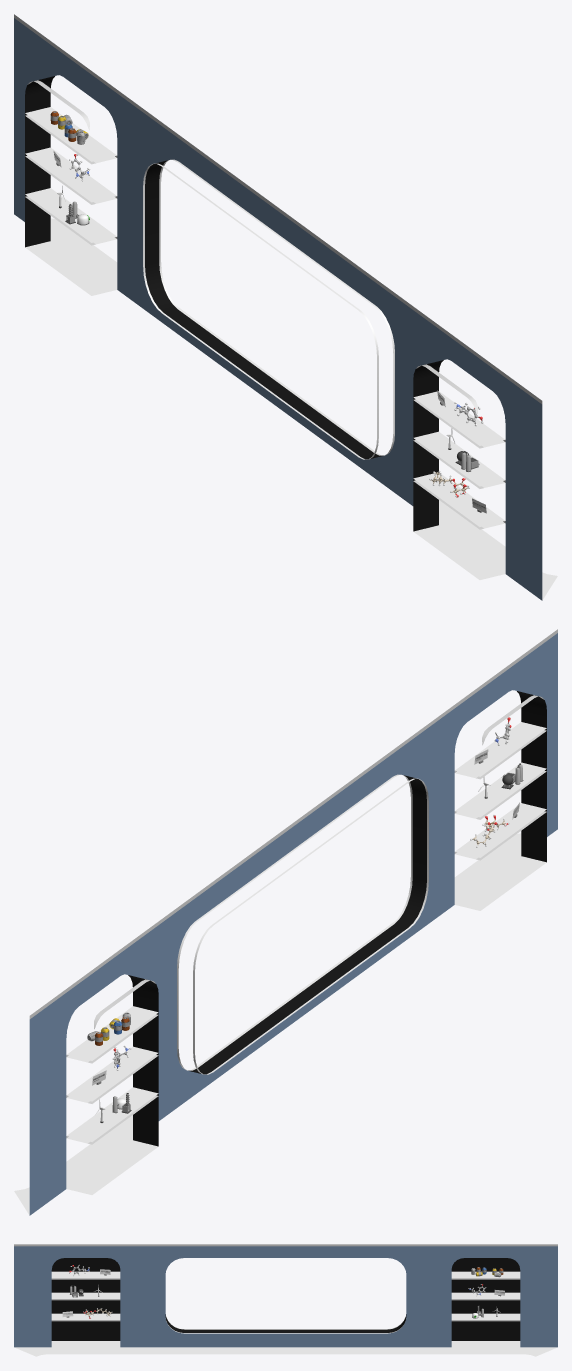
The model's file is Main.fbx.
3 renders of one model, top to bottom at view 1: azimuth 30°, elevation 25°; view 2: azimuth 150°, elevation 25°; view 3: azimuth 270°, elevation 25°, orthographic. The views are drawn at different scales.
Visible parts, largest first — view 1: Plane.001, Cube.008; view 2: Plane.001, Cube.008; view 3: Plane.001, Cube.008.
Part boxes in pixels (x1,y1,x2,y2): Plane.001: [14, 14, 557, 600]; Cube.008: [25, 107, 505, 529]; Plane.001: [14, 629, 557, 1215]; Cube.008: [66, 722, 546, 1144]; Plane.001: [14, 1244, 557, 1356]; Cube.008: [51, 1271, 520, 1321].
Size of the model in its own units: 98.93 by 300 by 1435.
Materials: 23 (8 with a texture image).
